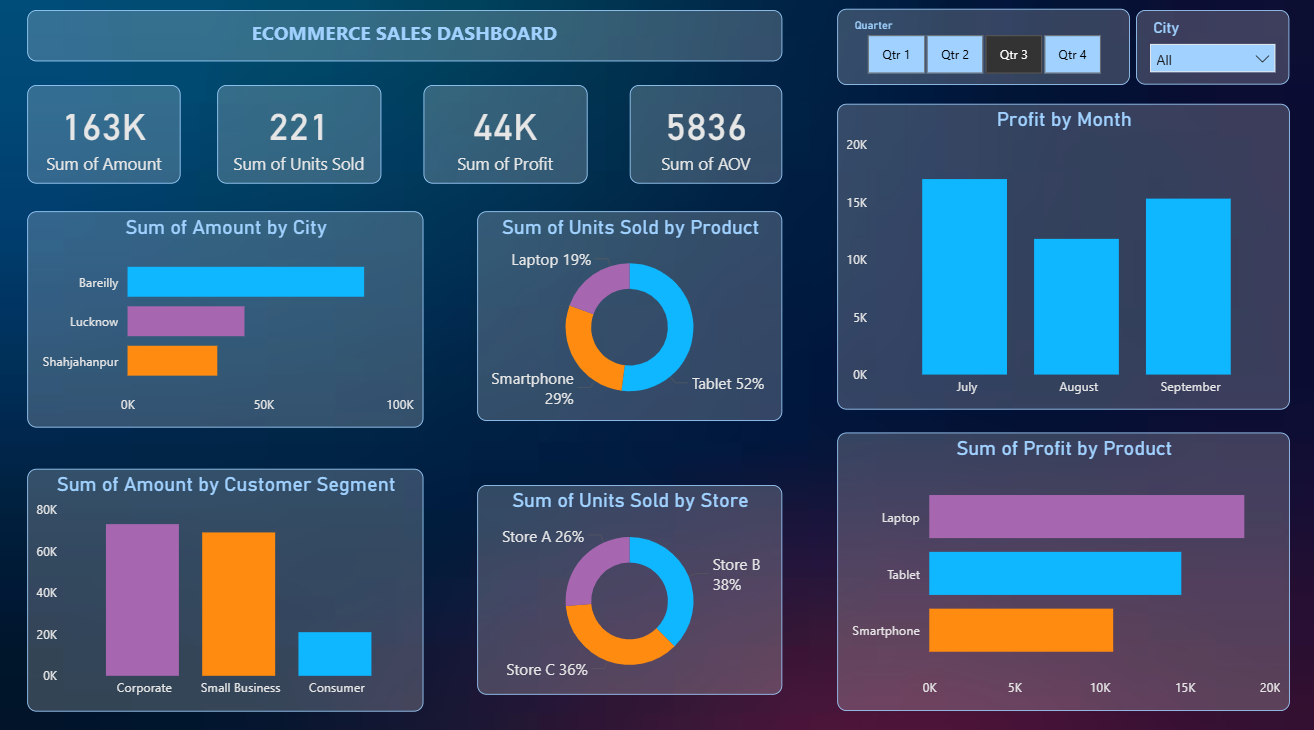

Layout of this report page (visuals, bound fields, positions):
{"tool":"powerbi","page":{"name":"Page 1","canvas":[1280,720],"ordinal":0},"visuals":[{"type":"columnChart","title":" Profit by Month","fields":{"Category":["Order.Date.Variation.Date Hierarchy.Month"],"Y":["Sum(Details.Profit ($))"]},"box":[811.9,105,436.7,295.6],"z":0},{"type":"barChart","fields":{"Y":["Sum(Details.Profit ($))"],"Category":["Details.Product"]},"box":[811.9,422.3,436.7,269],"z":1000},{"type":"donutChart","fields":{"Y":["Sum(Details.Units Sold)"],"Category":["Details.Product"]},"box":[464.5,208.7,294.4,202.7],"z":2000},{"type":"donutChart","fields":{"Y":["Sum(Details.Units Sold)"],"Category":["Details.Store"]},"box":[464.5,472.9,294.4,202.7],"z":3000},{"type":"card","fields":{"Values":["Sum(Details.Amount ($))"]},"box":[30.2,86.9,148.4,95.3],"z":4000},{"type":"card","fields":{"Values":["Sum(Details.Units Sold)"]},"box":[213.5,86.9,158,95.3],"z":5000},{"type":"card","fields":{"Values":["Sum(Details.Profit ($))"]},"box":[412.6,86.9,158,95.3],"z":6000},{"type":"card","fields":{"Values":["Sum(Details.AOV)"]},"box":[611.7,86.9,147.2,95.3],"z":7000},{"type":"barChart","fields":{"Y":["Sum(Details.Amount ($))"],"Category":["Order.City"]},"box":[30.2,208.7,382.4,208.7],"z":8000},{"type":"columnChart","fields":{"Y":["Sum(Details.Amount ($))"],"Category":["Details.Customer Segment"]},"box":[30.2,457.2,382.4,234],"z":9000},{"type":"slicer","fields":{"Values":["Order.Date.Variation.Date Hierarchy.Quarter"]},"box":[811.9,13.3,282.3,73.6],"z":10000},{"type":"slicer","fields":{"Values":["Order.City"]},"box":[1100.3,14.5,148.4,72.4],"z":11000},{"type":"textbox","box":[30.2,14.5,728.7,49.5],"z":12000}]}

Visuals, with their boxes in screenshot pixels (x1, y1, x2, y2), scaled from the page's 1280x720 canvas onto the 1314x730 screenshot:
" Profit by Month" columnChart: 833, 106, 1282, 406
barChart - Sum(Details.Profit ($)) x Details.Product: 833, 428, 1282, 701
donutChart - Sum(Details.Units Sold) x Details.Product: 477, 212, 779, 417
donutChart - Sum(Details.Units Sold) x Details.Store: 477, 479, 779, 685
card - Sum(Details.Amount ($)): 31, 88, 183, 185
card - Sum(Details.Units Sold): 219, 88, 381, 185
card - Sum(Details.Profit ($)): 424, 88, 586, 185
card - Sum(Details.AOV): 628, 88, 779, 185
barChart - Sum(Details.Amount ($)) x Order.City: 31, 212, 424, 423
columnChart - Sum(Details.Amount ($)) x Details.Customer Segment: 31, 464, 424, 701
slicer - Order.Date.Variation.Date Hierarchy.Quarter: 833, 13, 1123, 88
slicer - Order.City: 1130, 15, 1282, 88
textbox: 31, 15, 779, 65
